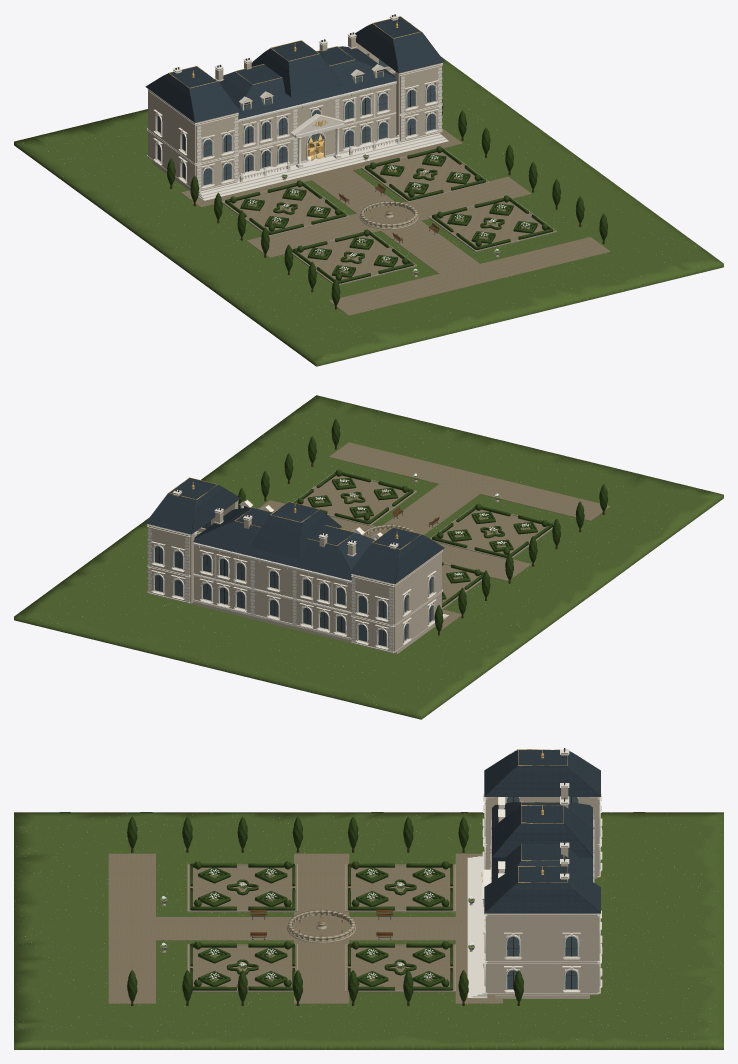
Rendered from estateExterior.glb.
3 renders of one model, top to bottom at view 1: azimuth 30°, elevation 25°; view 2: azimuth 150°, elevation 25°; view 3: azimuth 270°, elevation 25°, orthographic. The views are drawn at different scales.
Parts seen in each view (by area): view 1: Exterieurs sans anciens murets; view 2: Exterieurs sans anciens murets; view 3: Exterieurs sans anciens murets.
Part boxes in pixels (x1=…): Exterieurs sans anciens murets: x1=14, y1=14, x2=723, y2=366; Exterieurs sans anciens murets: x1=14, y1=395, x2=723, y2=719; Exterieurs sans anciens murets: x1=14, y1=748, x2=723, y2=1049.
Size of the model in its own units: 70.01 by 18.01 by 90.
33 materials, 18 textured.
